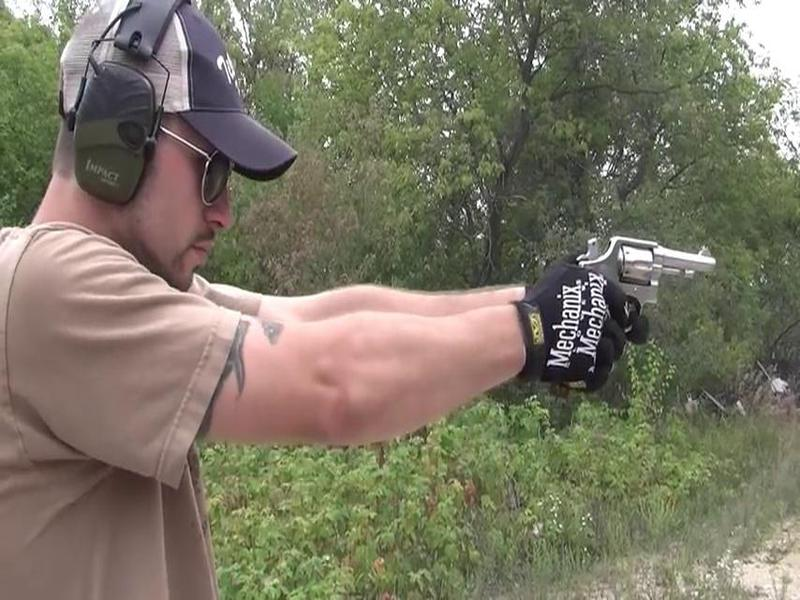Revolver: (534, 209, 720, 341)
